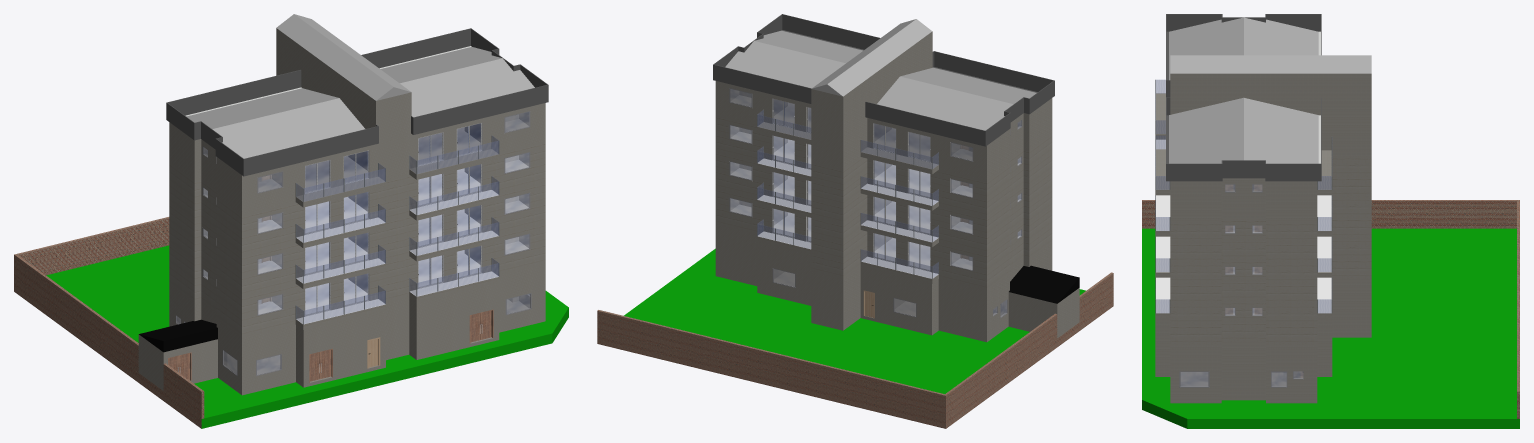
Rendered from building.glb.
The picture shows the model from 3 angles, left to right: view 1: azimuth 30°, elevation 25°; view 2: azimuth 150°, elevation 25°; view 3: azimuth 270°, elevation 25°; orthographic projection. The views are drawn at different scales.
Visible parts, largest first — view 1: Grupo 1, Grupo 2, Grupo 871, Grupo 437, Grupo 1311, Grupo 1745, Grupo 873, Grupo 876, Grupo 874, Grupo 877, Grupo 878, Grupo 436; view 2: Grupo 1, Grupo 2, Grupo 871, Grupo 437, Grupo 1311, Grupo 1745, Grupo 874, Grupo 877, Grupo 873, Grupo 876, Grupo 878, Grupo 436; view 3: Grupo 1, Grupo 871, Grupo 2, Grupo 1745, Grupo 1311, Grupo 437, Grupo 876, Grupo 877, Grupo 878, Grupo 873, Grupo 874, Component#244.
Boxes of the visible parts, x1,y1,x2,y2 form: Grupo 1: (14,217,568,428); Grupo 2: (138,263,545,395); Grupo 871: (169,28,545,214); Grupo 437: (169,223,545,337); Grupo 1311: (169,182,545,296); Grupo 1745: (169,141,545,255); Grupo 873: (211,98,378,176); Grupo 876: (400,58,548,134); Grupo 874: (166,70,338,146); Grupo 877: (361,28,502,83); Grupo 878: (276,14,411,100); Grupo 436: (139,319,217,352); Grupo 1: (597,248,1113,428); Grupo 2: (715,224,1079,342); Grupo 871: (715,31,1052,180); Grupo 437: (715,188,1052,290); Grupo 1311: (715,151,1052,253); Grupo 1745: (715,115,1052,217); Grupo 874: (865,76,1014,146); Grupo 877: (713,41,845,103); Grupo 873: (900,51,1054,119); Grupo 876: (753,14,880,63); Grupo 878: (811,19,932,96); Grupo 436: (1009,265,1079,303); Grupo 1: (1142,200,1519,428); Grupo 871: (1155,73,1371,221); Grupo 2: (1155,279,1371,403); Grupo 1745: (1155,139,1371,262); Grupo 1311: (1155,197,1371,303); Grupo 437: (1155,238,1371,344); Grupo 876: (1166,97,1243,181); Grupo 877: (1244,97,1321,181); Grupo 878: (1170,55,1371,73); Grupo 873: (1166,14,1243,97); Grupo 874: (1244,14,1321,55); Component#244: (1180,372,1208,386).
Bounding box in the file's own units: 30 × 20.68 × 25.
17 materials, 8 textured.
